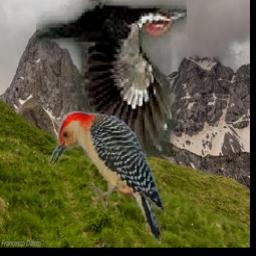Woodpecker: (36, 0, 187, 158), (49, 110, 167, 246)
